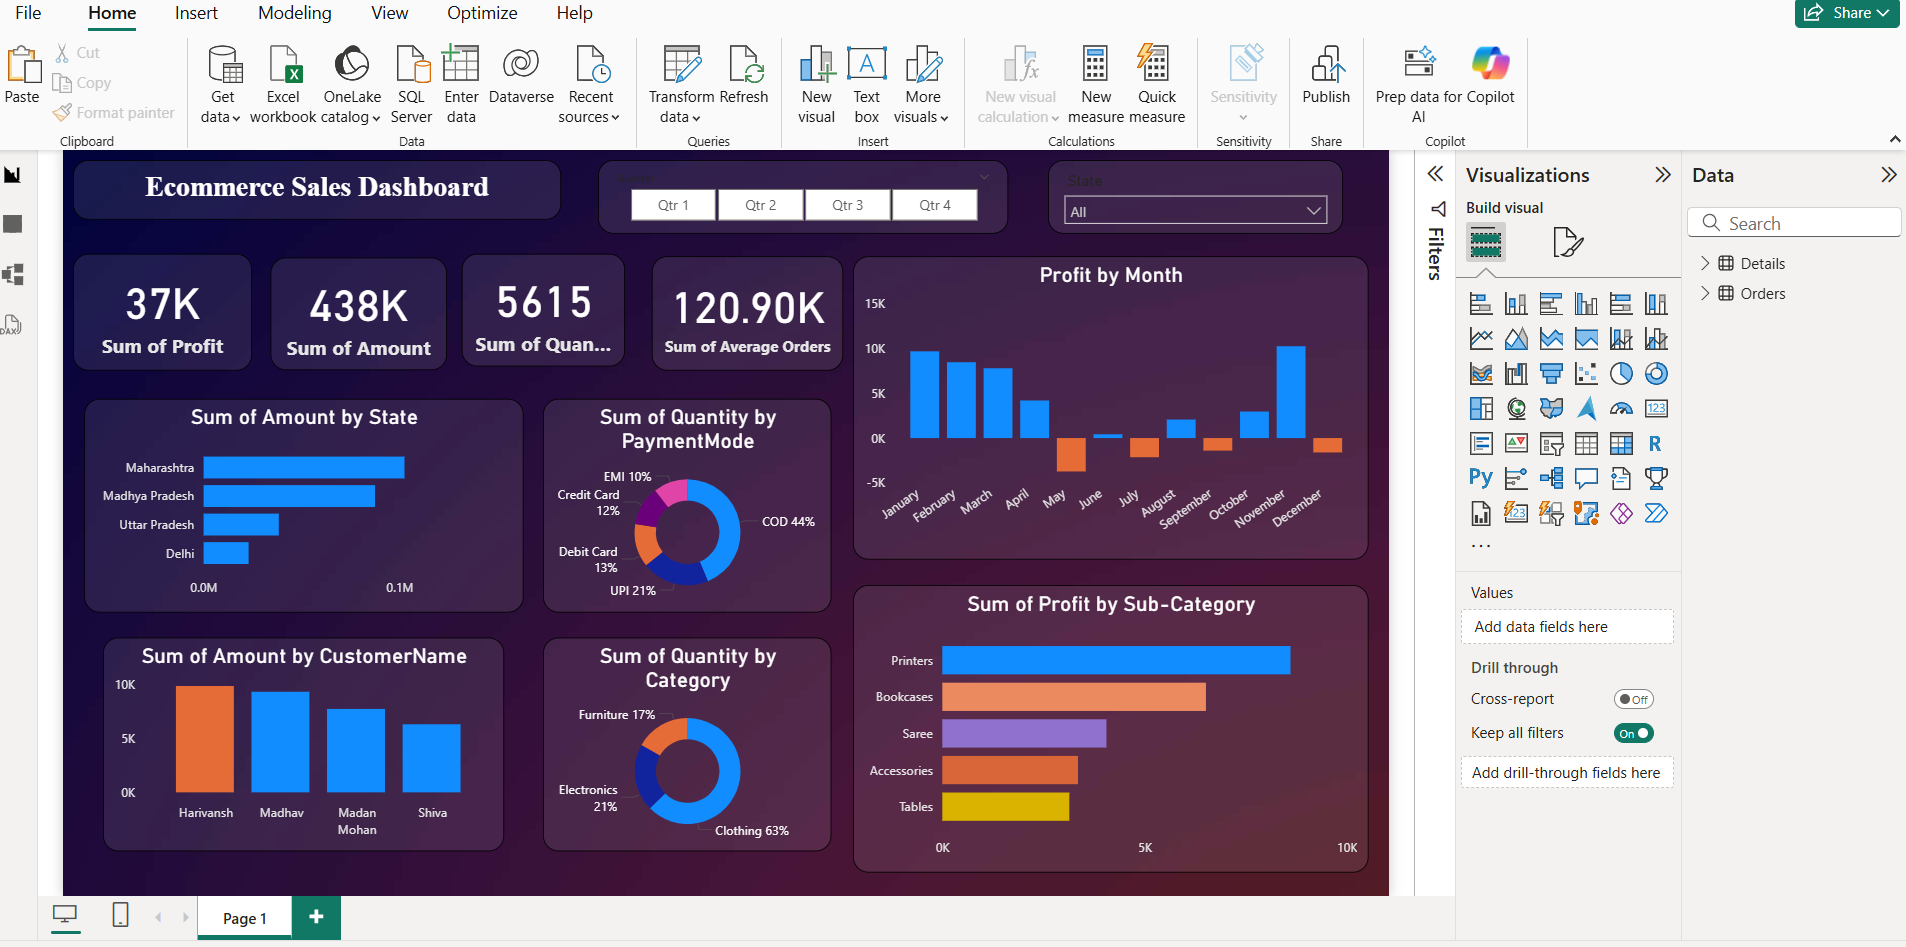

Layout of this report page (visuals, bound fields, positions):
{"tool":"powerbi","page":{"name":"Page 1","canvas":[1280,720],"ordinal":0},"visuals":[{"type":"textbox","box":[10,10,471.2,57.5],"z":0},{"type":"columnChart","title":" Profit by Month","fields":{"Category":["Orders.Order Date.Variation.Date Hierarchy.Month"],"Y":["Sum(Details.Profit)"]},"box":[762.5,102.5,497.5,292.5],"z":1000},{"type":"barChart","fields":{"Y":["Sum(Details.Profit)"],"Category":["Details.Sub-Category"]},"box":[762.5,420,497.5,277.5],"z":2000},{"type":"donutChart","fields":{"Y":["Sum(Details.Quantity)"],"Category":["Details.PaymentMode"]},"box":[463.8,240,278.8,206.2],"z":3000},{"type":"donutChart","fields":{"Y":["Sum(Details.Quantity)"],"Category":["Details.Category"]},"box":[463.8,470,278.8,206.2],"z":4000},{"type":"card","fields":{"Values":["Sum(Details.Profit)"]},"box":[10,100,172.5,112.5],"z":5000},{"type":"card","fields":{"Values":["Sum(Details.Amount)"]},"box":[200,103.8,170,108.8],"z":6000},{"type":"card","fields":{"Values":["Sum(Details.Quantity)"]},"box":[385,100,157.5,108.8],"z":7000},{"type":"card","fields":{"Values":["Sum(Details.Average Orders)"]},"box":[568.8,102.5,185,110],"z":8000},{"type":"barChart","fields":{"Category":["Orders.State"],"Y":["Sum(Details.Amount)"]},"box":[20,240,423.8,206.2],"z":9000},{"type":"columnChart","fields":{"Category":["Orders.CustomerName"],"Y":["Sum(Details.Amount)"]},"box":[38.8,470,387.5,206.2],"z":10000},{"type":"slicer","fields":{"Values":["Orders.Order Date.Variation.Date Hierarchy.Quarter"]},"box":[516.2,10,396.2,71.2],"z":11000},{"type":"slicer","fields":{"Values":["Orders.State"]},"box":[951.2,10,285,71.2],"z":12000}]}

Visuals, with their boxes on the page's 1280x720 design canvas (x1, y1, x2, y2). These are canvas units, not pixel positions in the 1906x947 screenshot, which may show the page scaled, cropped or inside an application window:
textbox: rect(10, 10, 481, 68)
" Profit by Month" columnChart: rect(762, 102, 1260, 395)
barChart - Sum(Details.Profit) x Details.Sub-Category: rect(762, 420, 1260, 698)
donutChart - Sum(Details.Quantity) x Details.PaymentMode: rect(464, 240, 743, 446)
donutChart - Sum(Details.Quantity) x Details.Category: rect(464, 470, 743, 676)
card - Sum(Details.Profit): rect(10, 100, 182, 212)
card - Sum(Details.Amount): rect(200, 104, 370, 213)
card - Sum(Details.Quantity): rect(385, 100, 542, 209)
card - Sum(Details.Average Orders): rect(569, 102, 754, 212)
barChart - Orders.State x Sum(Details.Amount): rect(20, 240, 444, 446)
columnChart - Orders.CustomerName x Sum(Details.Amount): rect(39, 470, 426, 676)
slicer - Orders.Order Date.Variation.Date Hierarchy.Quarter: rect(516, 10, 912, 81)
slicer - Orders.State: rect(951, 10, 1236, 81)
